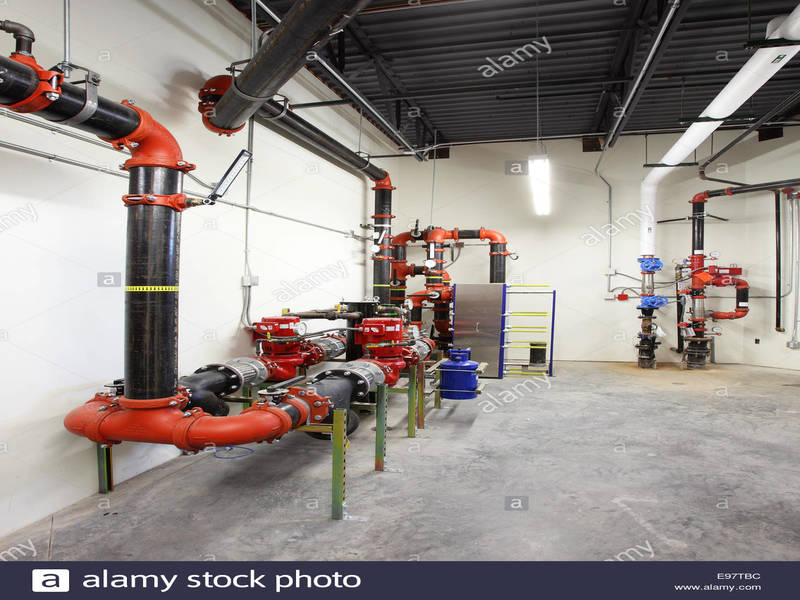valve: (362, 341, 387, 353)
